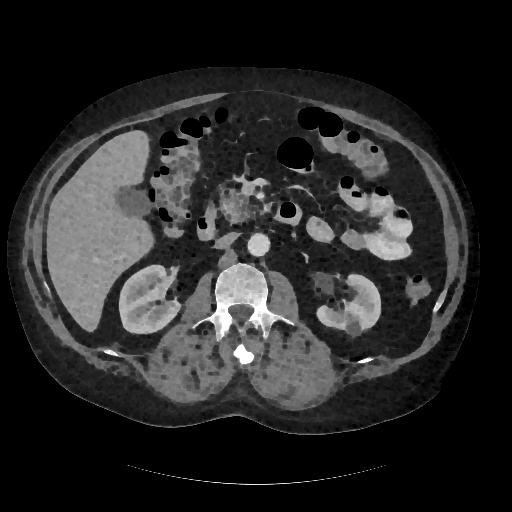Lesion: (345, 318, 361, 338)
